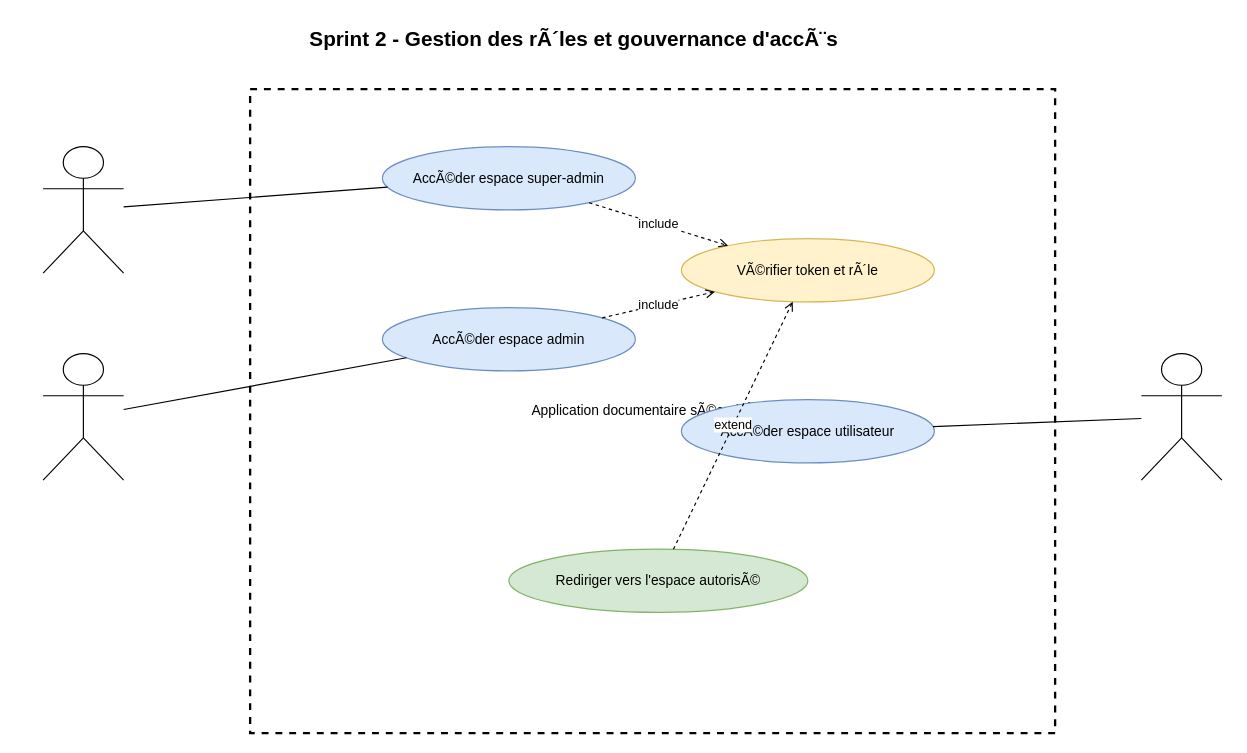
Some shapes in this 1247 by 753 pixel diagram are drawn without their labels. Each missing label, with the box of its shape:
Administrateur: (42, 352, 124, 480)
Super administrateur: (42, 145, 124, 273)
Utilisateur final: (1140, 352, 1222, 480)
